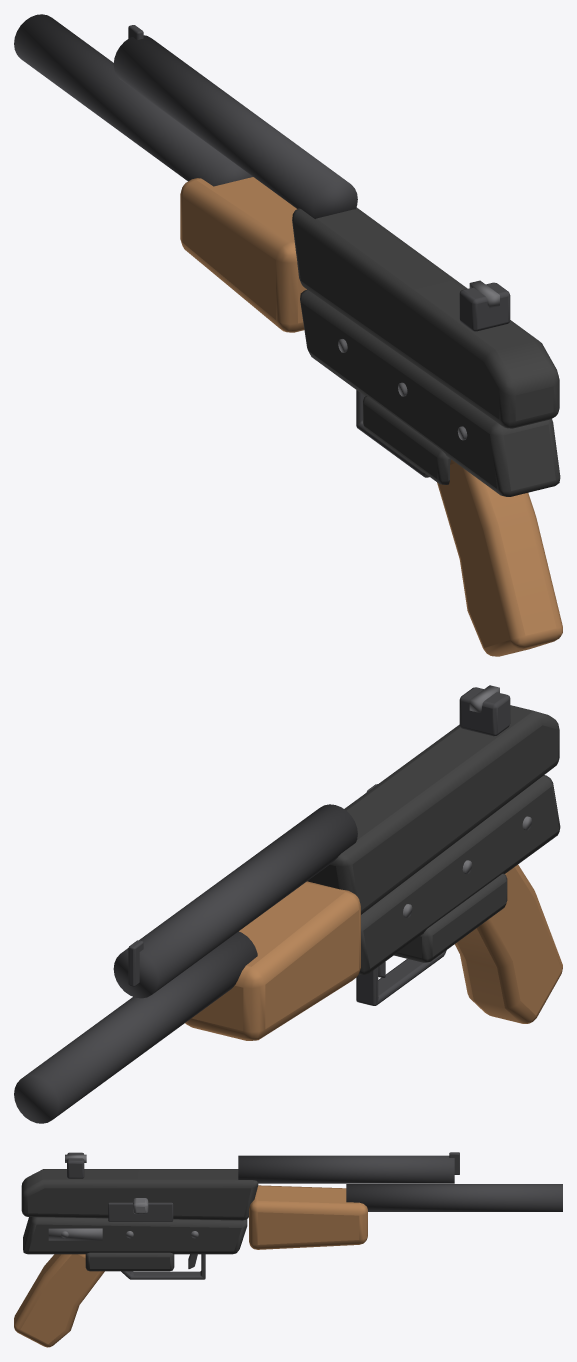
The model's file is w_sawed.glb.
The picture shows the model from 3 angles, top to bottom: view 1: azimuth 30°, elevation 25°; view 2: azimuth 150°, elevation 25°; view 3: azimuth 270°, elevation 25°; orthographic projection. The views are drawn at different scales.
Visible parts, largest first — view 1: body; view 2: body; view 3: body.
Part boxes in pixels (x1,y1,x2,y2): body: (14,14,562,656); body: (14,685,562,1123); body: (14,1152,562,1347).
Size of the model in its own units: 0.0663 by 0.2289 by 0.6.
